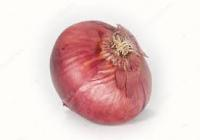onion: (48, 19, 154, 128)
